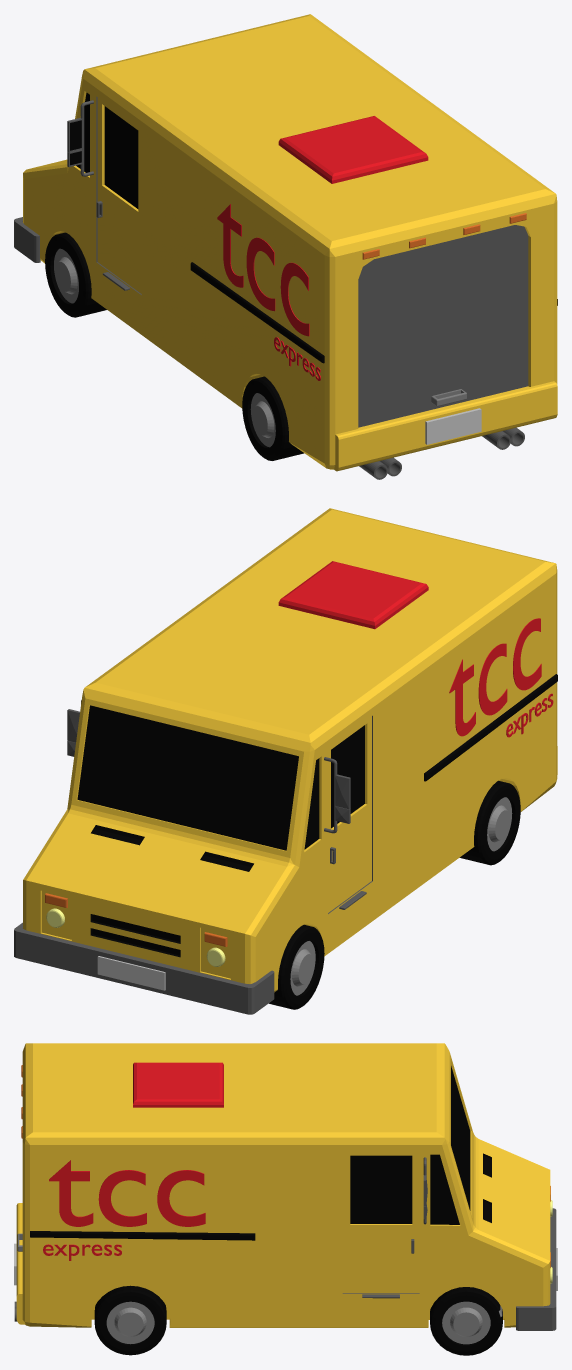
The model's file is CarrinhaEntregas.fbx.
3 views of the same model, one above another, from view 1: azimuth 30°, elevation 25°; view 2: azimuth 150°, elevation 25°; view 3: azimuth 270°, elevation 25° (orthographic). The views are drawn at different scales.
Parts seen in each view (by area): view 1: Cylinder.001; view 2: Cylinder.001; view 3: Cylinder.001.
Part boxes in pixels (box(x1,y1,x2,y2)): Cylinder.001: box(14, 14, 557, 479); Cylinder.001: box(14, 508, 557, 1014); Cylinder.001: box(14, 1043, 557, 1355).
Bounding box in the file's own units: 11 × 9.86 × 21.54.
